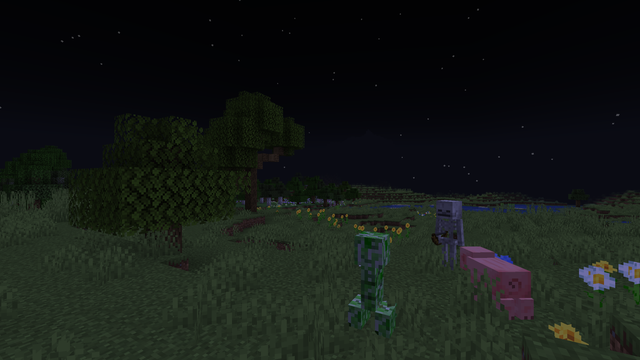cochons: (470, 253, 526, 320)
creepers: (350, 226, 392, 338)
squelettes: (436, 200, 459, 273)
